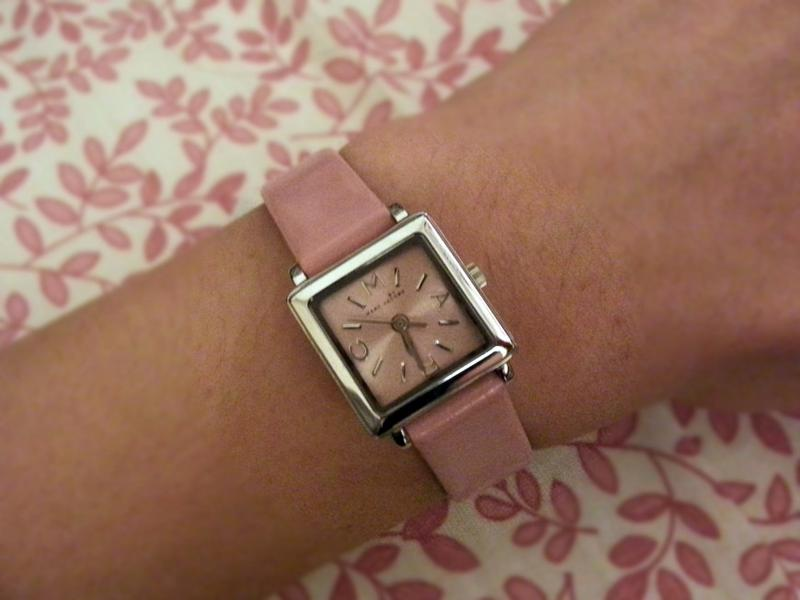watch: (264, 148, 539, 505)
